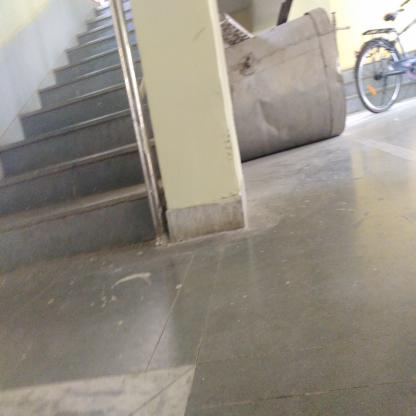stairs: (58, 66, 120, 266)
